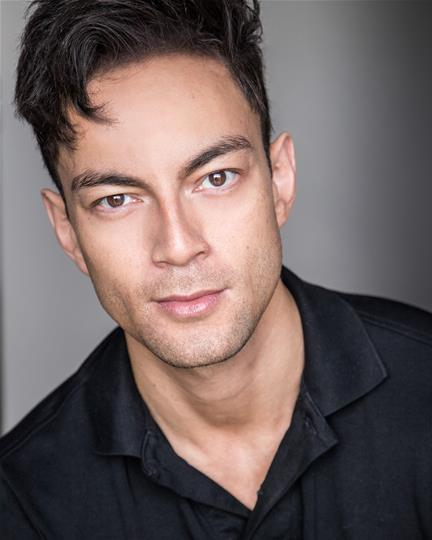Without Helmet: (1, 1, 313, 372)
